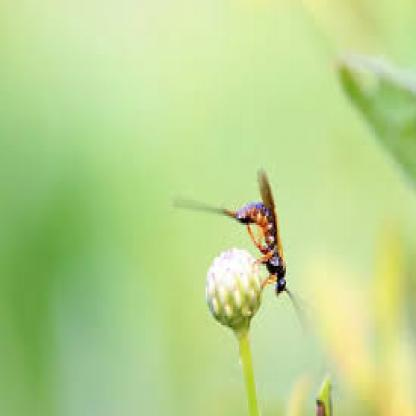sawfly: (221, 172, 298, 304)
